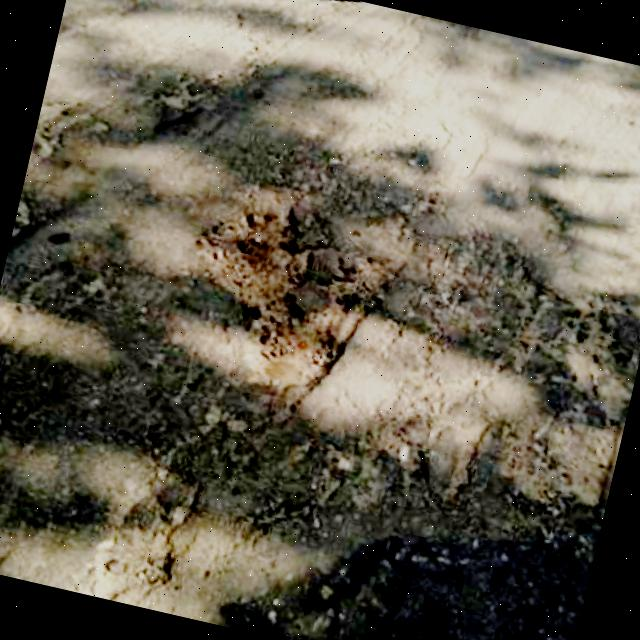pothole: (181, 184, 378, 397), (490, 284, 640, 523), (80, 502, 193, 614)
